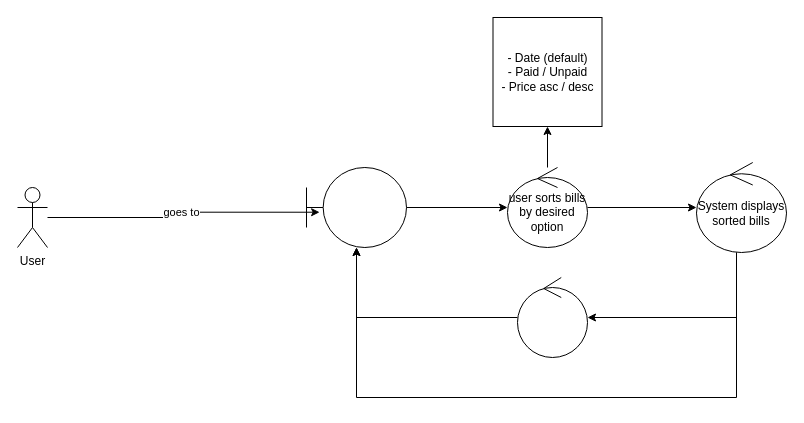
The diagram is 804 pixels wide and 423 high, and some of its shapes have lost their labels. The shapes that lost their labels are listed below. From the top down, each one's centre as x and y in pixels, then its label:
At pixel 356 207: "User Interface".
At pixel 552 317: "Error message display".
